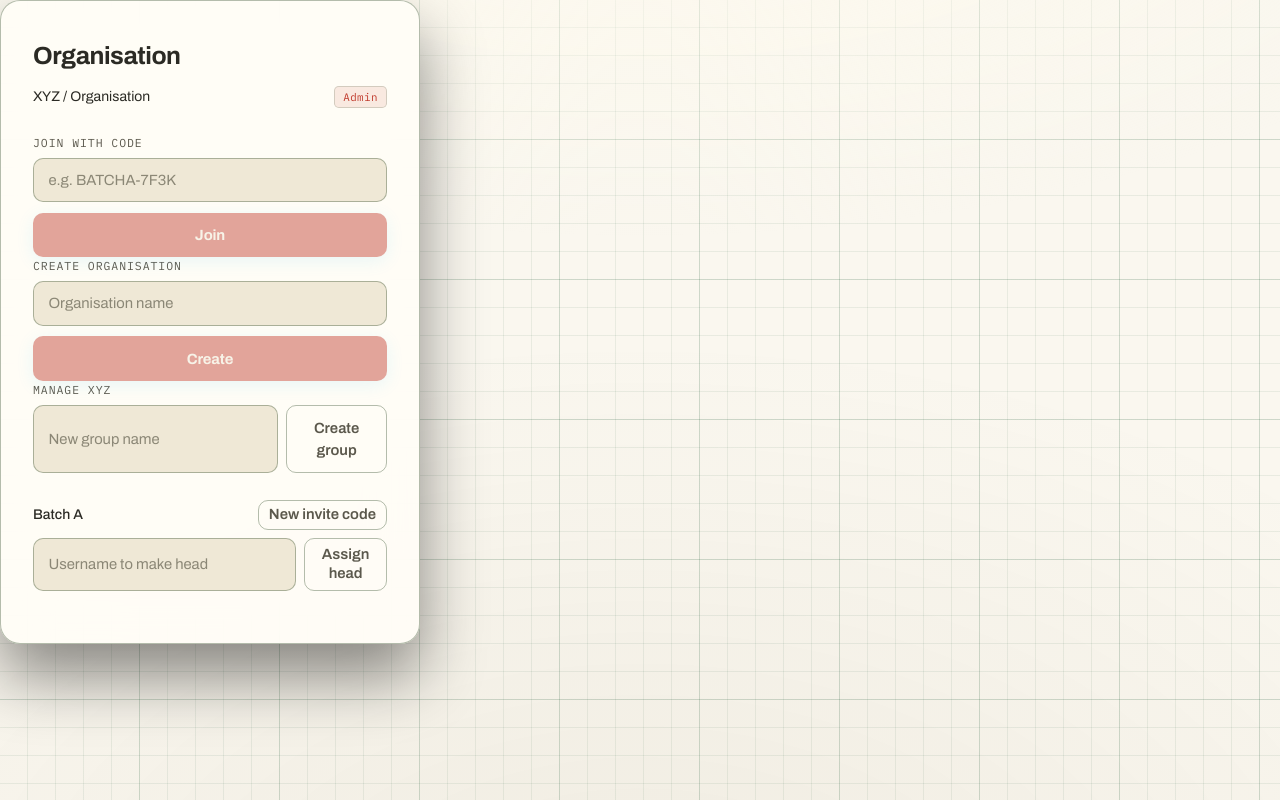
Scenario: shows the admin panel with invite-code generation for org admins
The image size is (1280, 800).
Expected: the text "Batch A" is shown, [33,505,83,525]
Click the button "New invite code". click: click(322, 515)
box: [258,500,387,530]
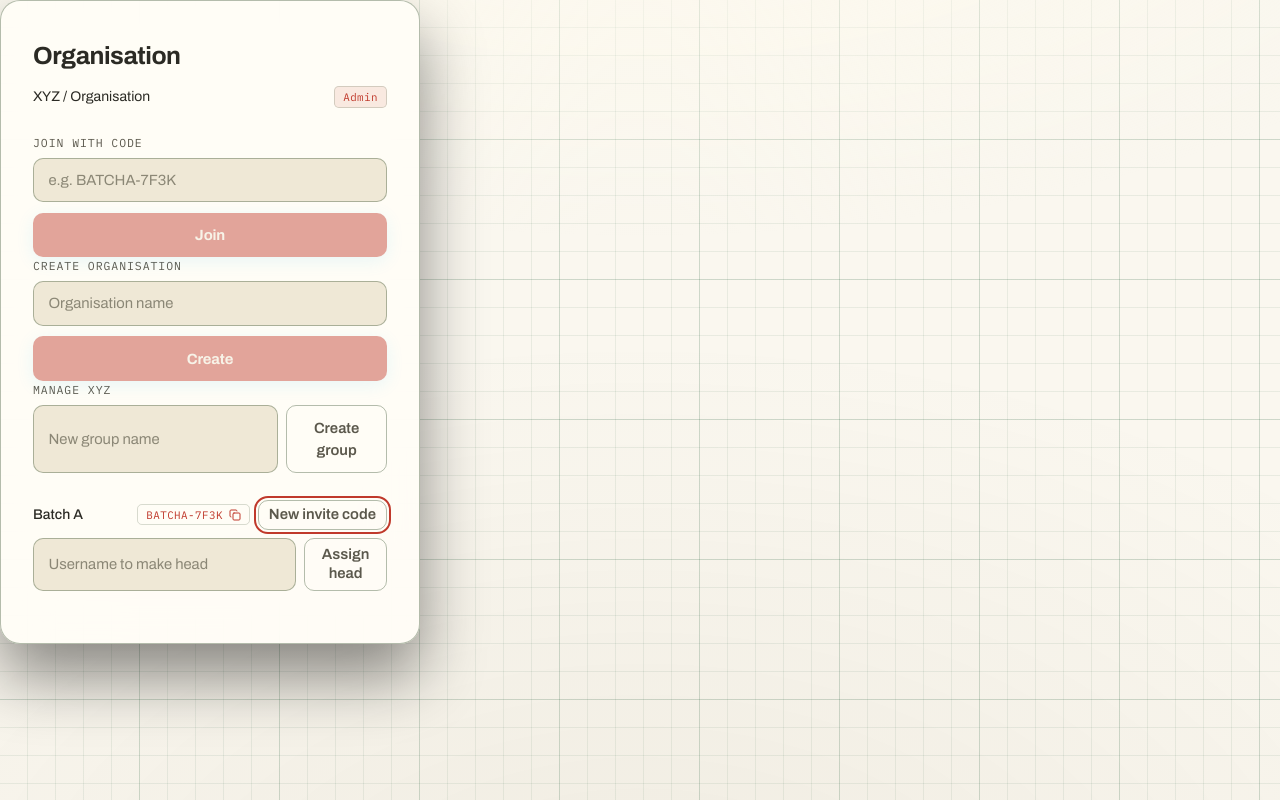
Result: the text "BATCHA-7F3K" is shown at [146,506,223,523]
